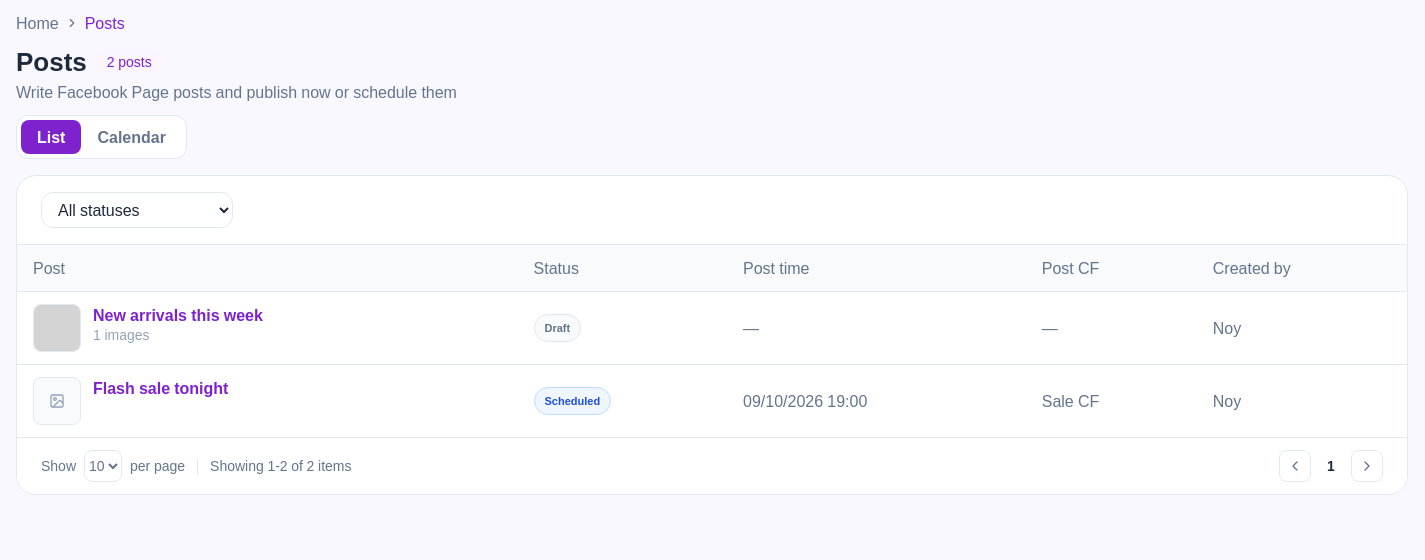
Test: PostList › ກອງສະຖານະ + empty + ລ້າງ; ບໍ່ມີສິດຂຽນ = ບໍ່ມີປຸ່ມສ້າງ
Expected: the link "New arrivals this week" is shown, [93,304,263,326]
Select "Failed" in the dropdown named "Filter by status" at (137,210), box [41,192,233,228]
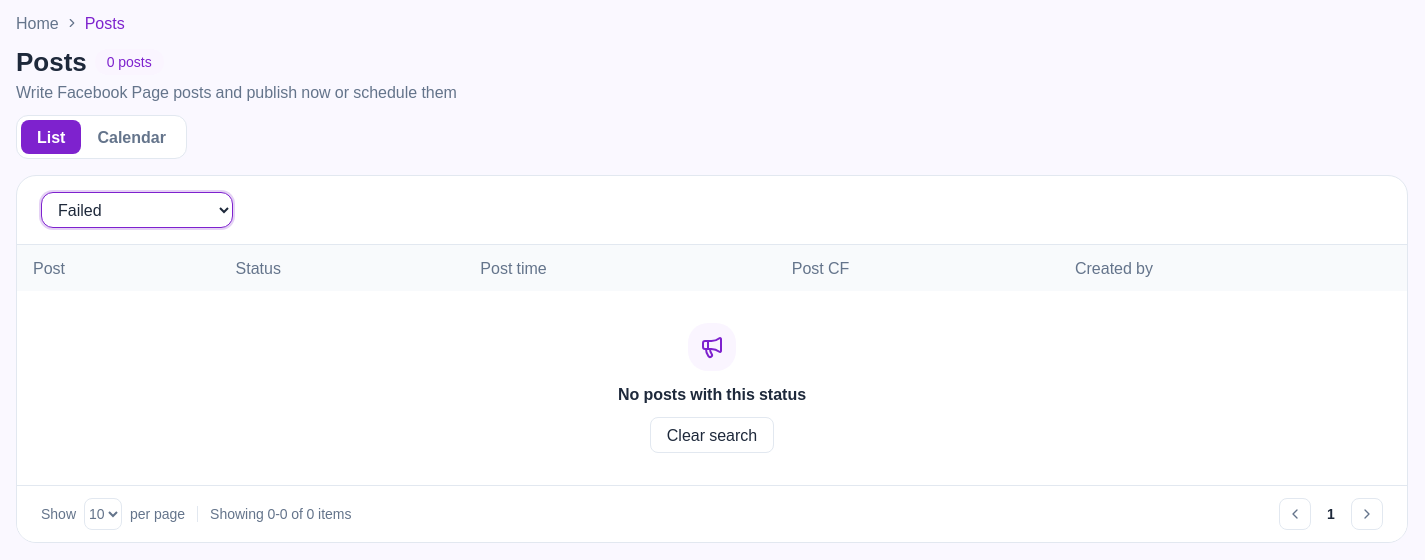
Expected: the text "No posts with this status" is shown, [618,382,806,404]
Click the button "Clear search" at (712,434), box [650,416,774,452]
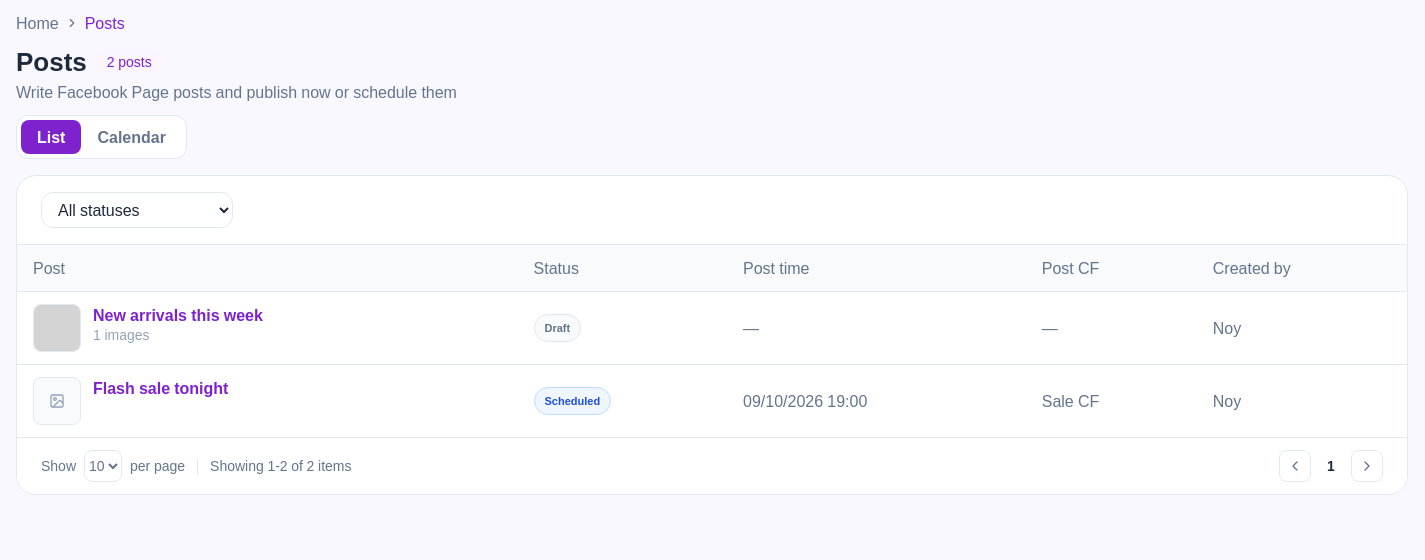
Expected: the link "New arrivals this week" is shown, [93,304,263,326]
